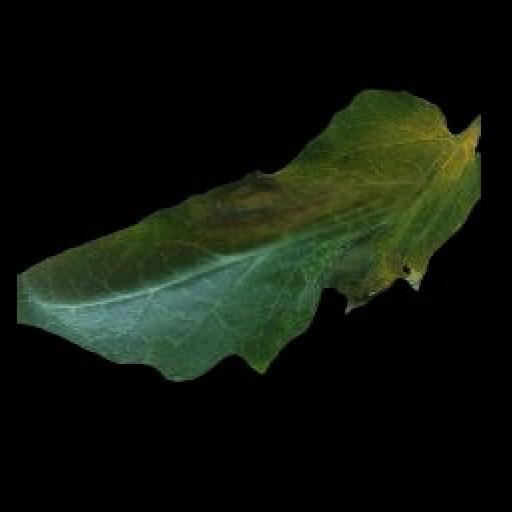disease_tomato: (17, 92, 483, 386)
